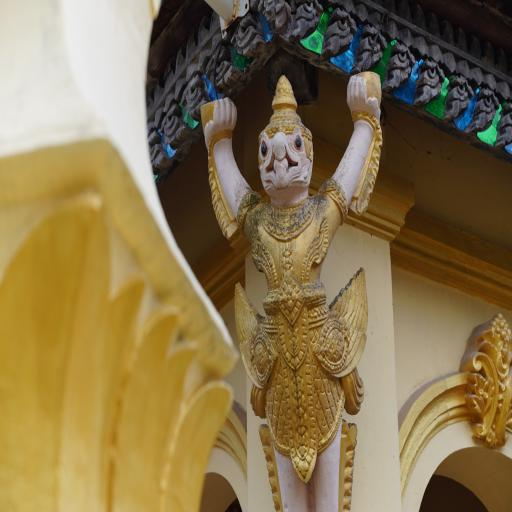than: (184, 34, 397, 512)
